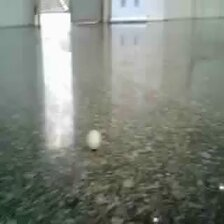w: (85, 128, 104, 150)
